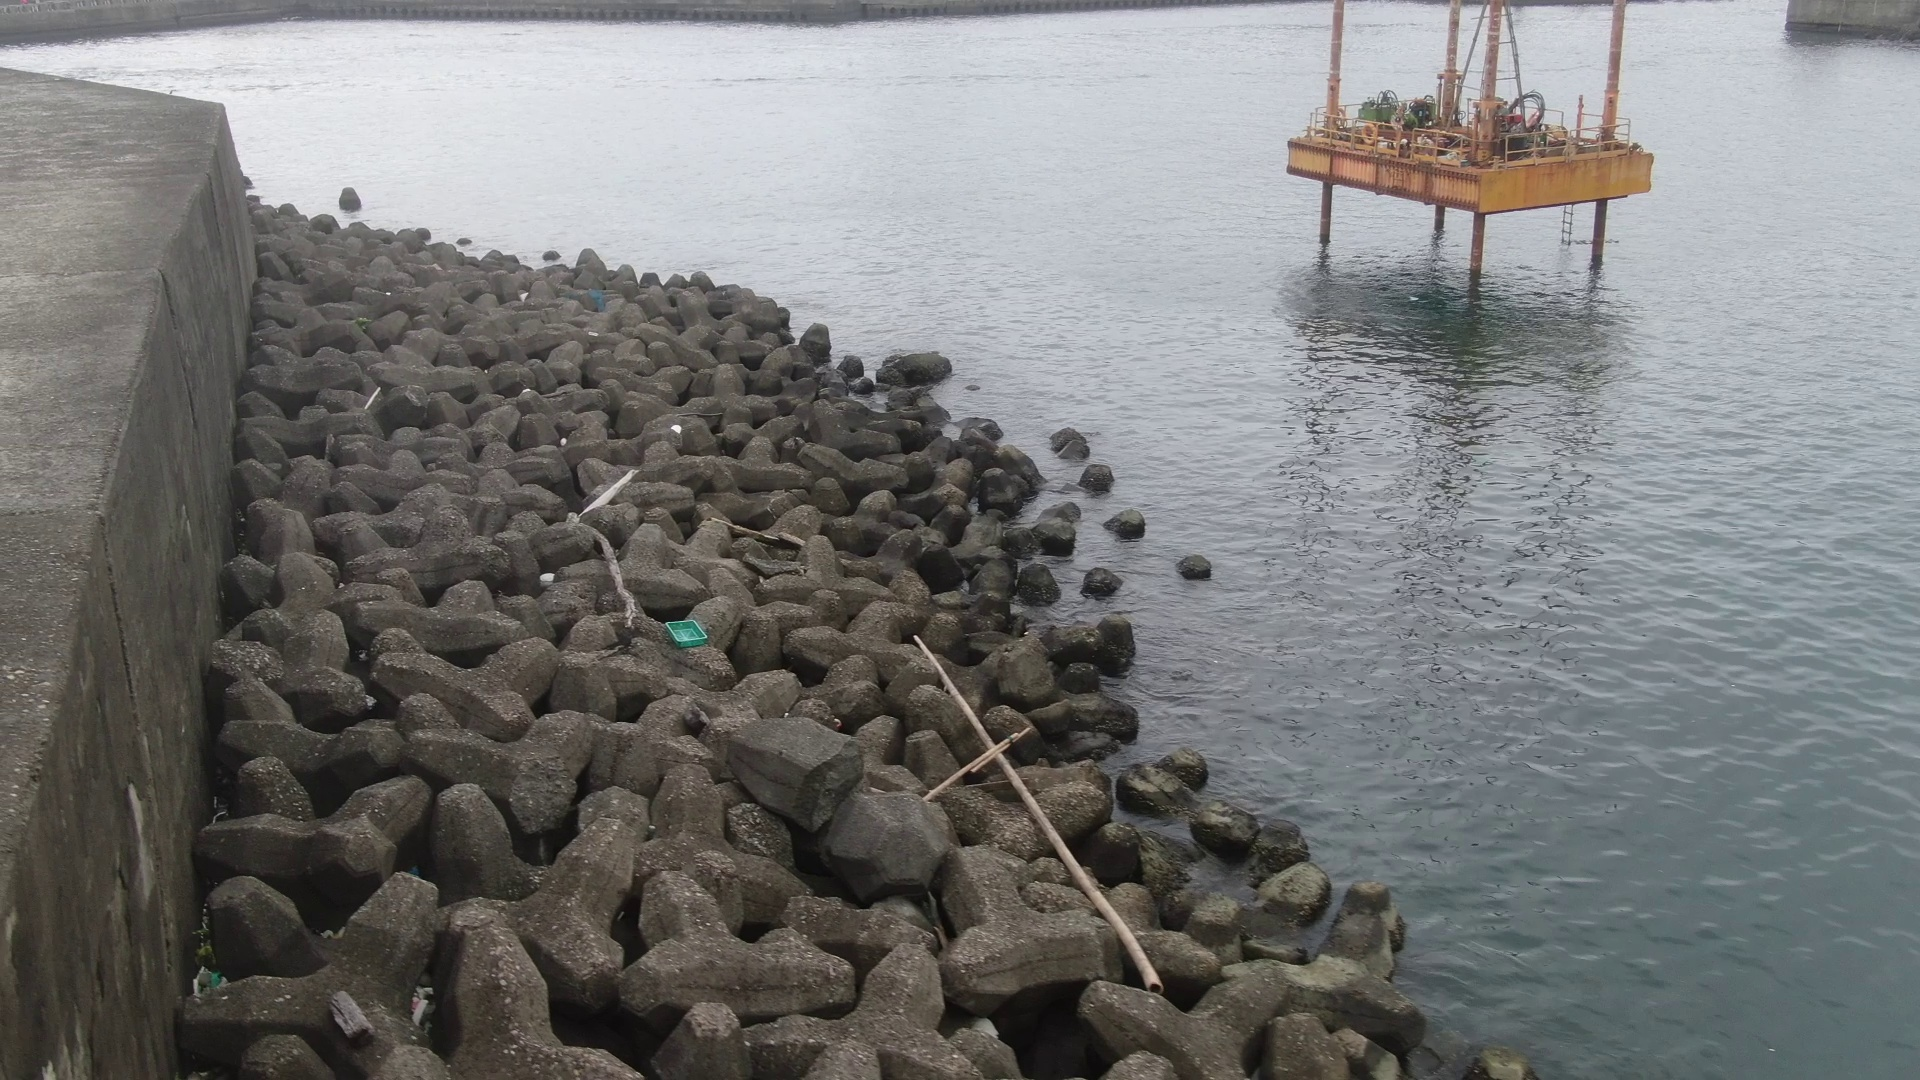garbage: (659, 617, 711, 651)
